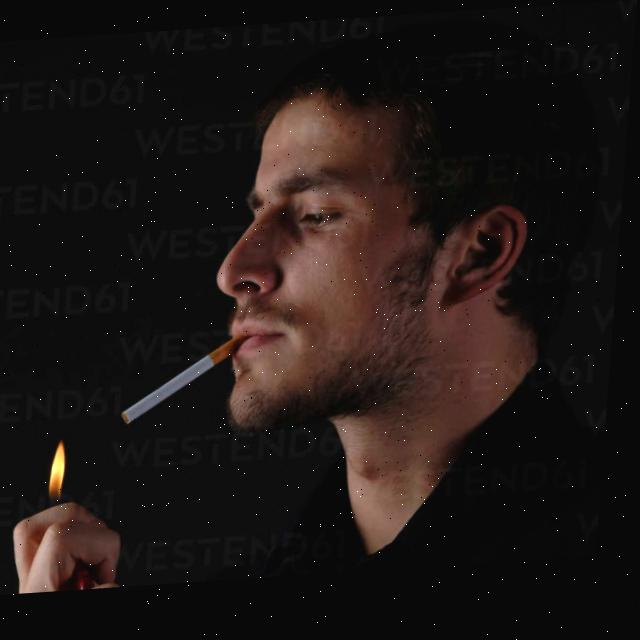cigarette: (128, 339, 254, 427)
